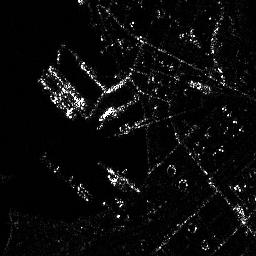ship: (41, 63, 85, 111), (36, 75, 73, 121)
